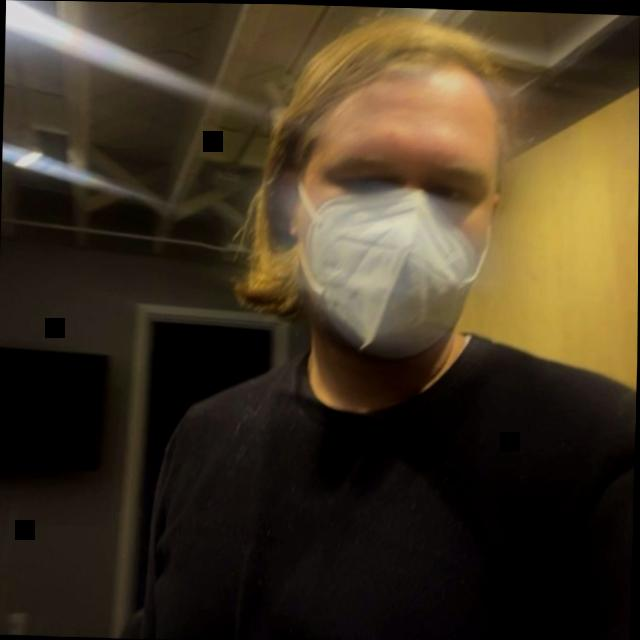Mask: (229, 25, 518, 381)
